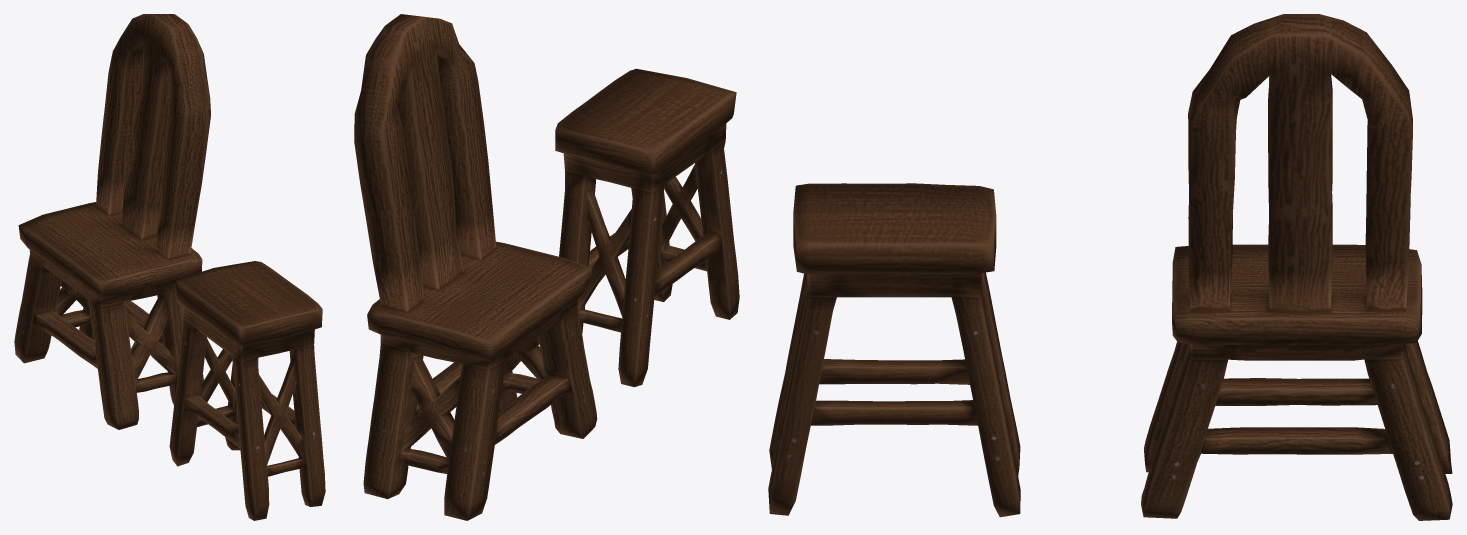
File: tea-house-tavern-chairs.glb
3 renders of one model, left to right at view 1: azimuth 30°, elevation 25°; view 2: azimuth 150°, elevation 25°; view 3: azimuth 270°, elevation 25°, orthographic. The views are drawn at different scales.
Visible parts, largest first — view 1: chair_lp, barchair_lp; view 2: chair_lp, barchair_lp; view 3: chair_lp, barchair_lp.
Part boxes in pixels (box(x1,y1,x2,y2)): chair_lp: box(14, 14, 210, 429); barchair_lp: box(169, 261, 325, 520); chair_lp: box(354, 14, 597, 520); barchair_lp: box(555, 68, 739, 387); chair_lp: box(1141, 14, 1452, 520); barchair_lp: box(768, 183, 1020, 517).
Bounding box in the file's own units: 0.4226 × 1.14 × 1.37.
Materials: 1 (1 with a texture image).
